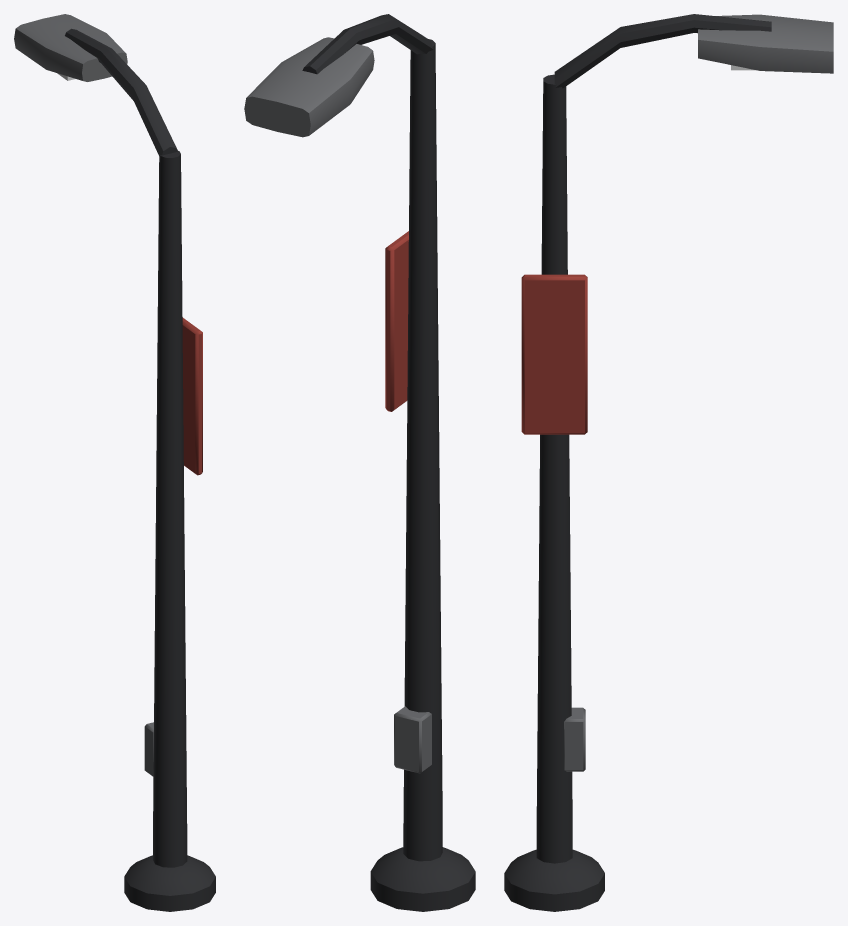
The model's file is prop_streetlight.glb.
3 views of the same model, side by side, from view 1: azimuth 30°, elevation 25°; view 2: azimuth 150°, elevation 25°; view 3: azimuth 270°, elevation 25° (orthographic). The views are drawn at different scales.
Visible parts, largest first — view 1: prop_streetlight; view 2: prop_streetlight; view 3: prop_streetlight.
Boxes of the visible parts, x1,y1,x2,y2 form: prop_streetlight: (14,14,215,911); prop_streetlight: (244,14,475,911); prop_streetlight: (504,14,833,911).
Bounding box in the file's own units: 0.5201 × 4.99 × 1.7.
